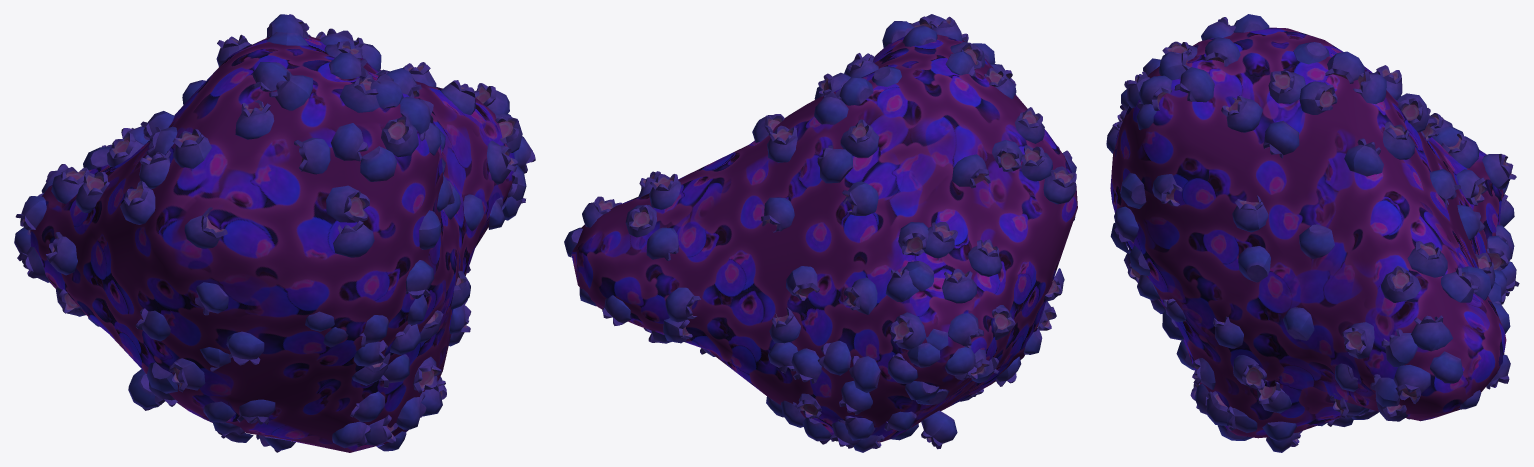
File: env_building_blueberrypile_lod0.fbx
The picture shows the model from 3 angles, left to right: view 1: azimuth 30°, elevation 25°; view 2: azimuth 150°, elevation 25°; view 3: azimuth 270°, elevation 25°; orthographic projection. The views are drawn at different scales.
Visible parts, largest first — view 1: env_building_blueberrypile_lod0; view 2: env_building_blueberrypile_lod0; view 3: env_building_blueberrypile_lod0.
Boxes of the visible parts, x1,y1,x2,y2 form: env_building_blueberrypile_lod0: [14, 14, 535, 452]; env_building_blueberrypile_lod0: [564, 14, 1077, 452]; env_building_blueberrypile_lod0: [1106, 14, 1519, 452].
Bounding box in the file's own units: 18.74 × 15.37 × 14.85.
